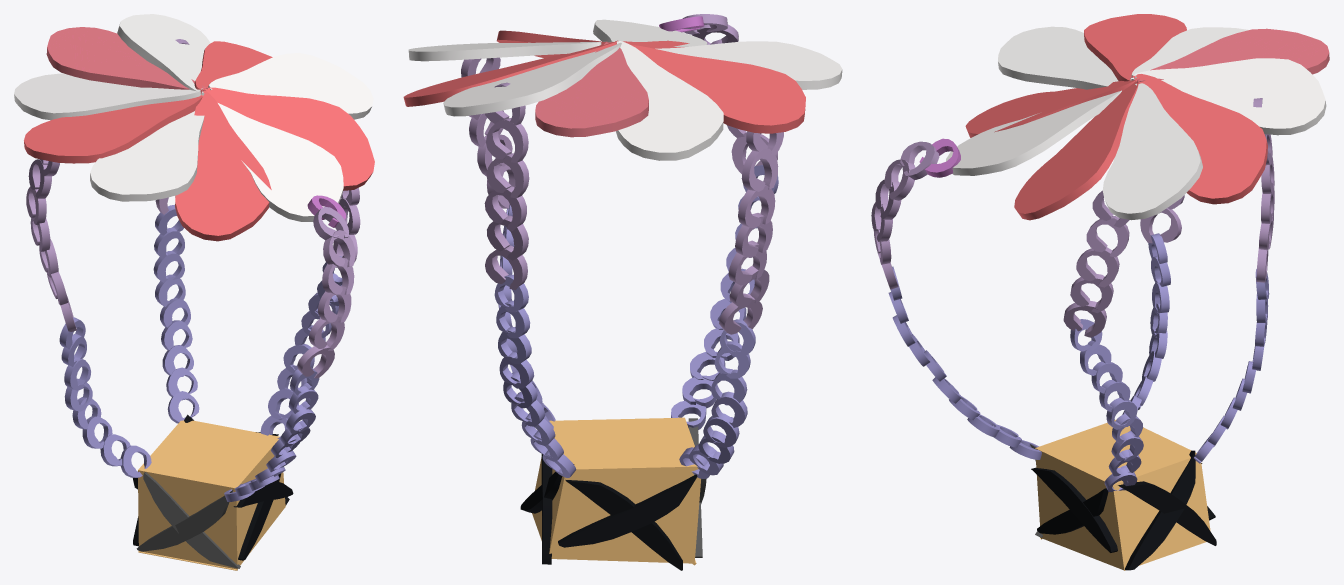
File: parachute.glb
3 views of the same model, side by side, from view 1: azimuth 30°, elevation 25°; view 2: azimuth 150°, elevation 25°; view 3: azimuth 270°, elevation 25° (orthographic). The views are drawn at different scales.
Visible parts, largest first — view 1: Object_2; view 2: Object_2; view 3: Object_2.
Boxes of the visible parts, x1,y1,x2,y2 form: Object_2: (14, 14, 374, 570); Object_2: (403, 14, 842, 570); Object_2: (871, 14, 1329, 570).
Size of the model in its own units: 2.37 by 3.06 by 2.64.
1 material, 1 textured.
